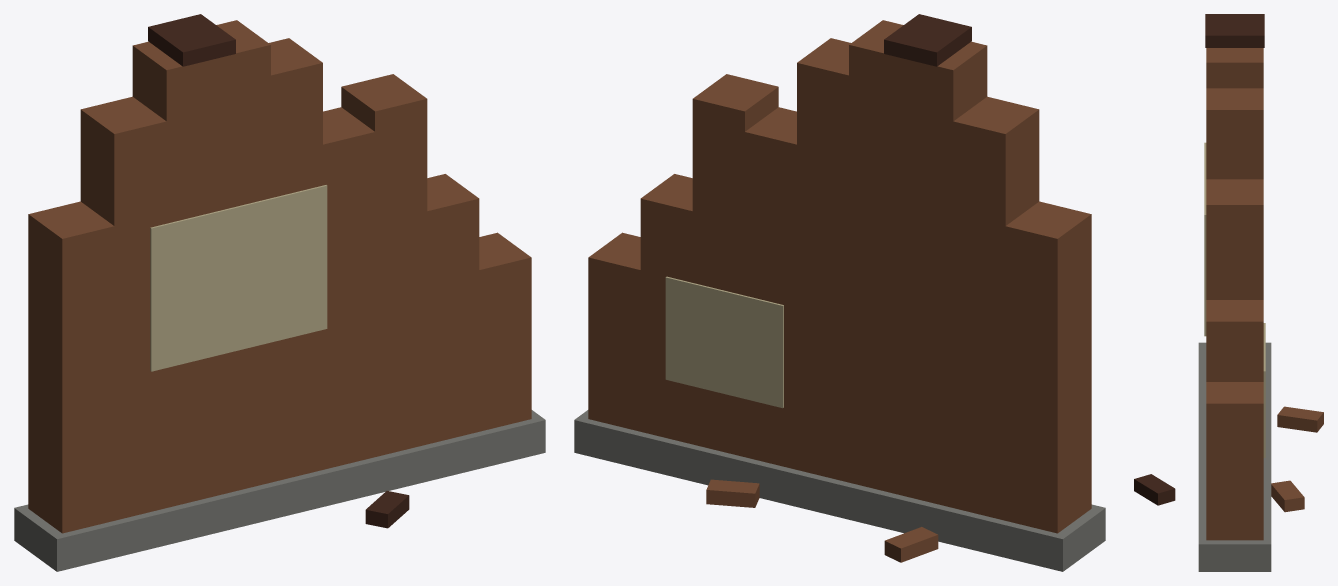
Rendered from wall_chunk.glb.
3 views of the same model, side by side, from view 1: azimuth 30°, elevation 25°; view 2: azimuth 150°, elevation 25°; view 3: azimuth 270°, elevation 25° (orthographic). The views are drawn at different scales.
Visible parts, largest first — view 1: wall_chunk; view 2: wall_chunk; view 3: wall_chunk.
Boxes of the visible parts, x1,y1,x2,y2 form: wall_chunk: [14, 14, 545, 571]; wall_chunk: [574, 14, 1105, 571]; wall_chunk: [1134, 14, 1323, 571].
Size of the model in its own units: 2.5 by 2.37 by 0.9945.
